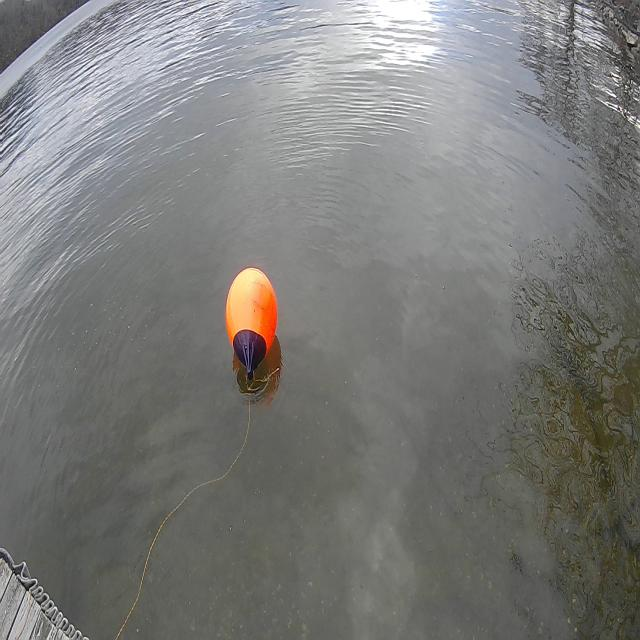Buoy: (222, 259, 281, 392)
